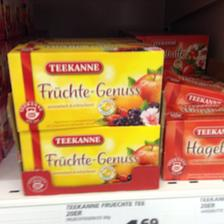Tee: (7, 43, 166, 130), (18, 125, 158, 187), (161, 104, 223, 180)
